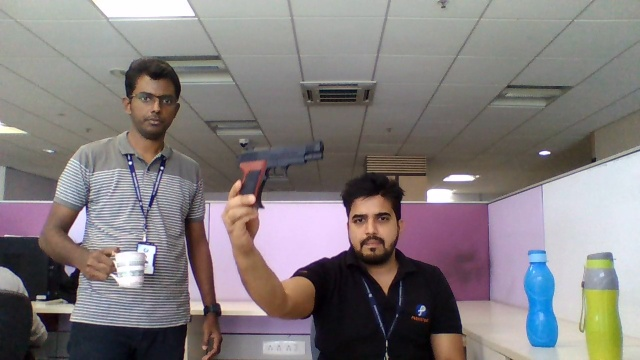gun: (238, 141, 323, 194)
